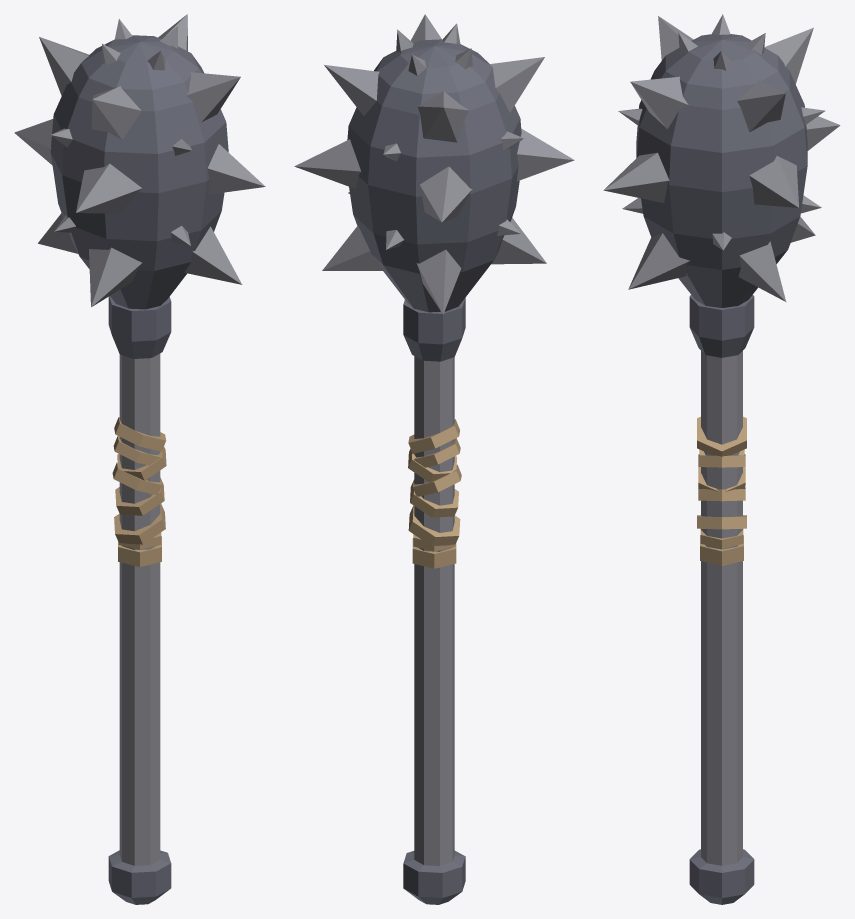
File: _hammer_01.fbx
3 renders of one model, left to right at view 1: azimuth 30°, elevation 25°; view 2: azimuth 150°, elevation 25°; view 3: azimuth 270°, elevation 25°, orthographic.
Visible parts, largest first — view 1: hammer_01; view 2: hammer_01; view 3: hammer_01.
Boxes of the visible parts, left/top/right/bottom form: hammer_01: left=14, top=14, right=265, bottom=904; hammer_01: left=294, top=14, right=574, bottom=904; hammer_01: left=603, top=14, right=840, bottom=904.
Bounding box in the file's own units: 19.63 × 78.95 × 19.63.
